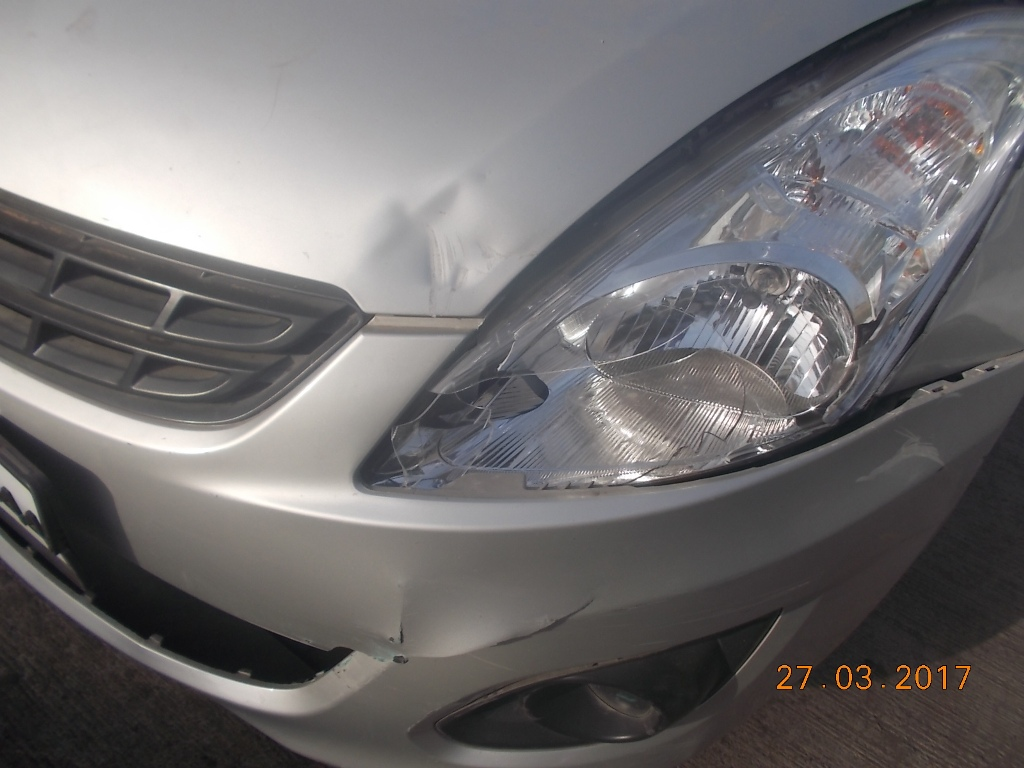Dent: (374, 163, 504, 289)
